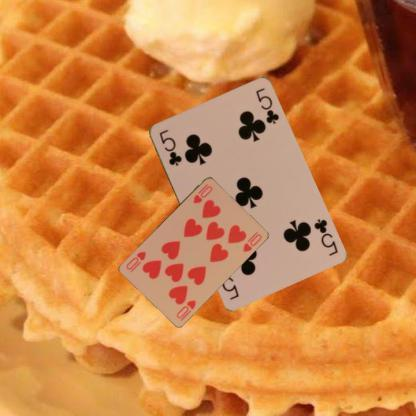10h: (190, 181, 214, 204), (174, 297, 197, 320)
5c: (310, 216, 340, 258), (156, 127, 183, 168)
